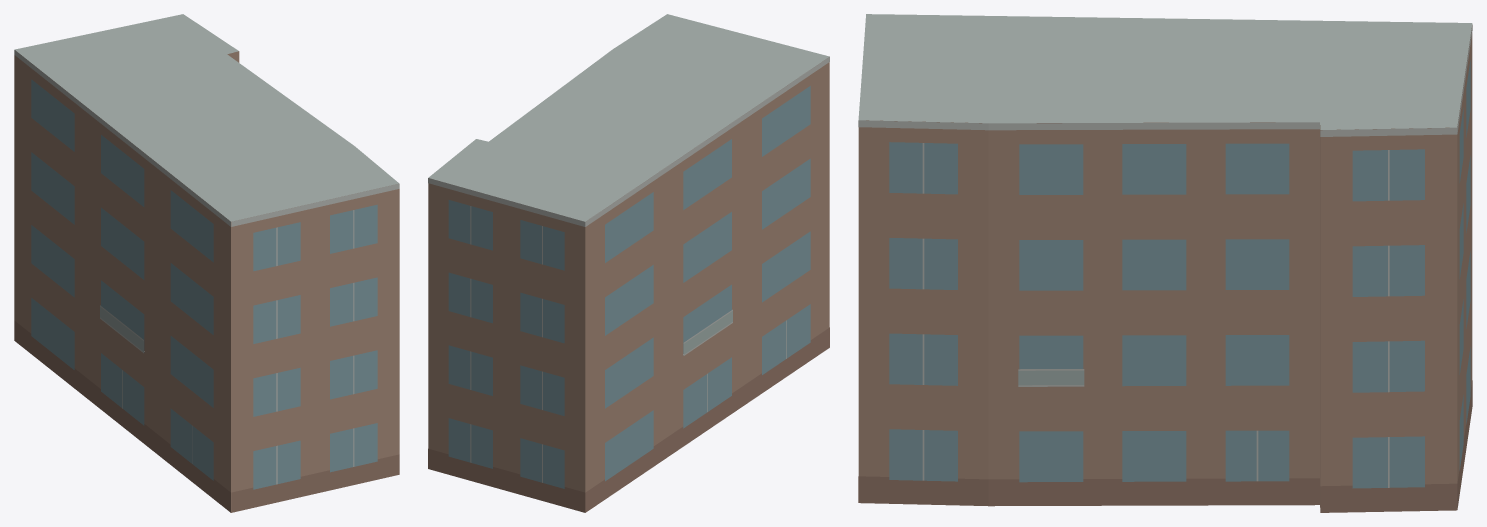
Rendered from survey-upis-32510334.glb.
The picture shows the model from 3 angles, left to right: view 1: azimuth 30°, elevation 25°; view 2: azimuth 150°, elevation 25°; view 3: azimuth 270°, elevation 25°; orthographic projection. The views are drawn at different scales.
Visible parts, largest first — view 1: survey-upis-32510334.tmp; view 2: survey-upis-32510334.tmp; view 3: survey-upis-32510334.tmp.
Boxes of the visible parts, x1,y1,x2,y2 form: survey-upis-32510334.tmp: (14,14,399,512); survey-upis-32510334.tmp: (428,14,829,512); survey-upis-32510334.tmp: (858,14,1472,512).
Size of the model in its own units: 8.72 by 13.4 by 19.49.
